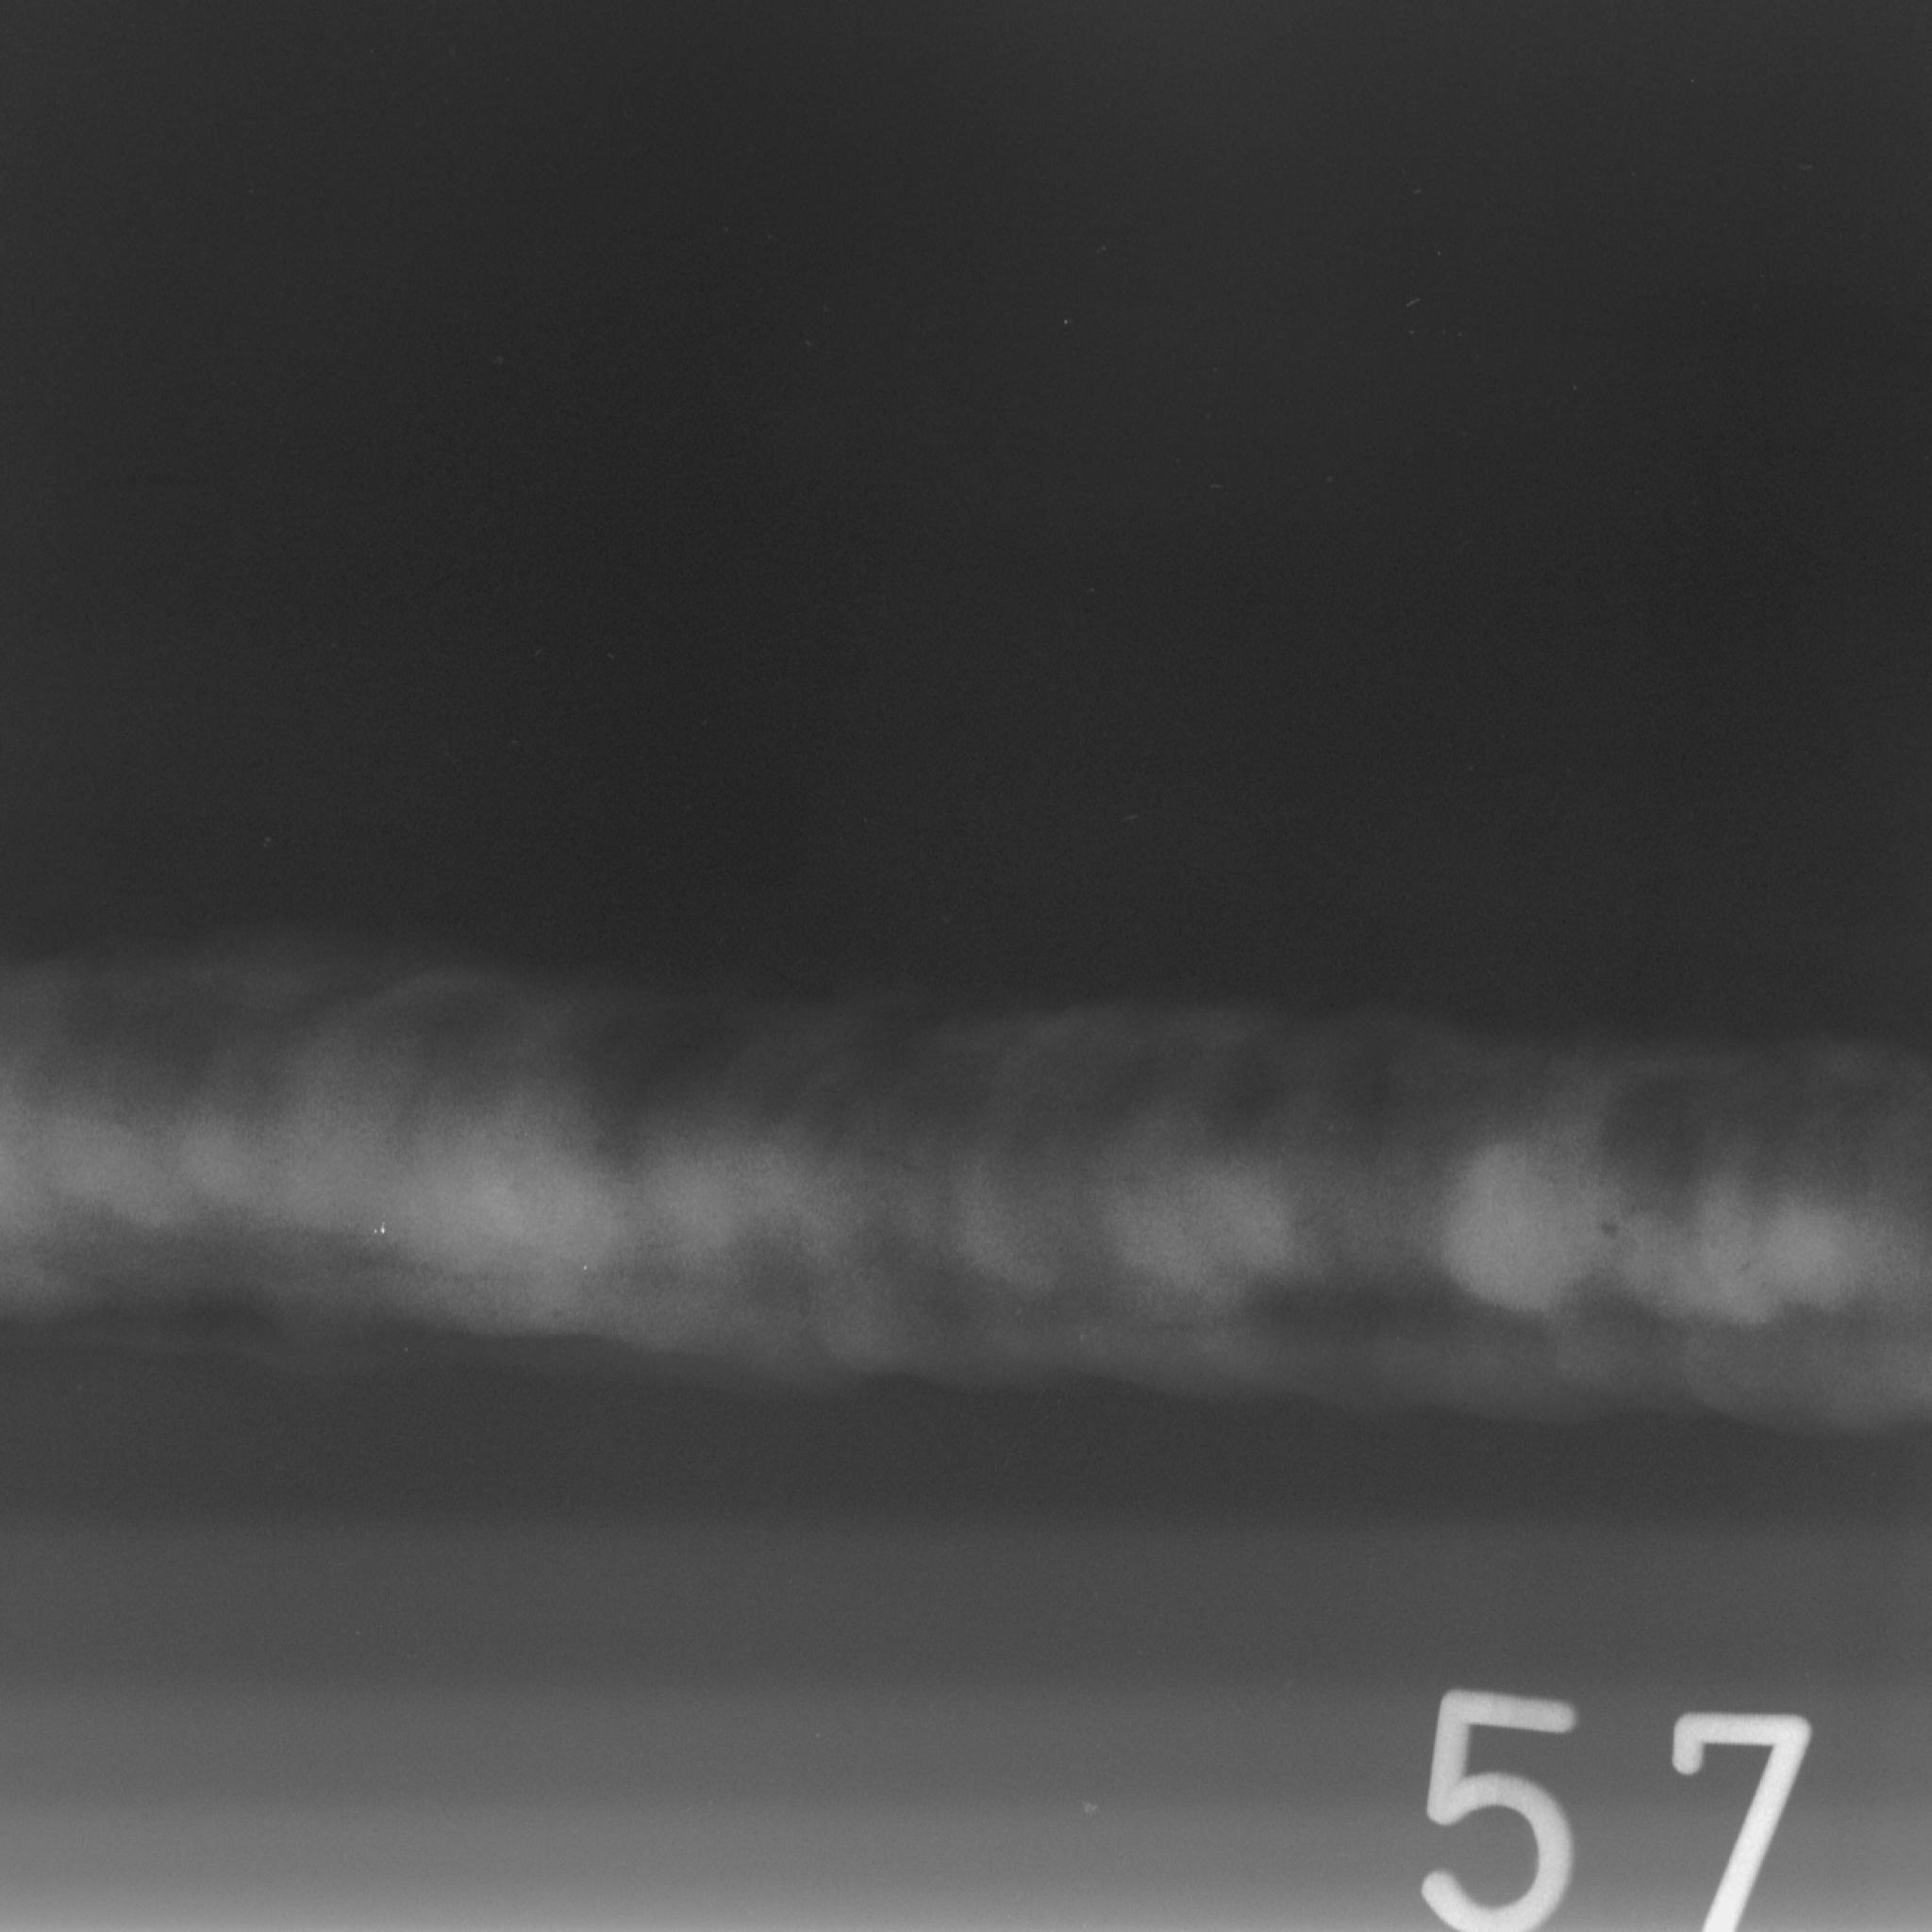Solda Ruim: (0, 872, 1932, 1598)
